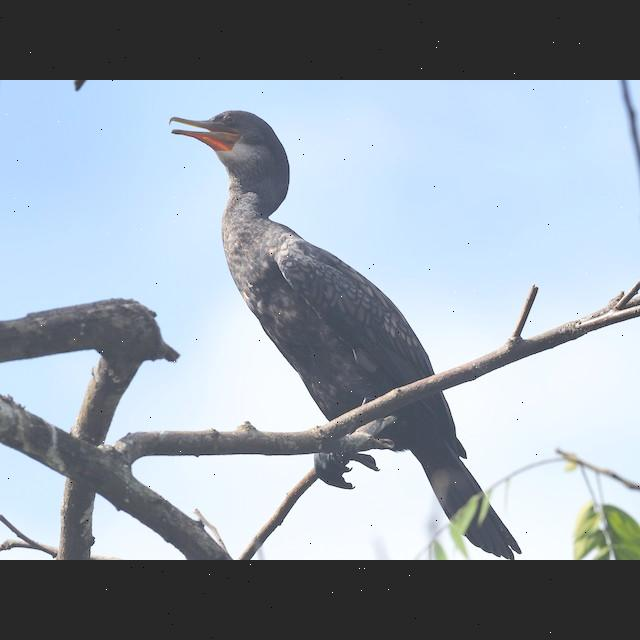cormorant: (164, 100, 524, 560)
